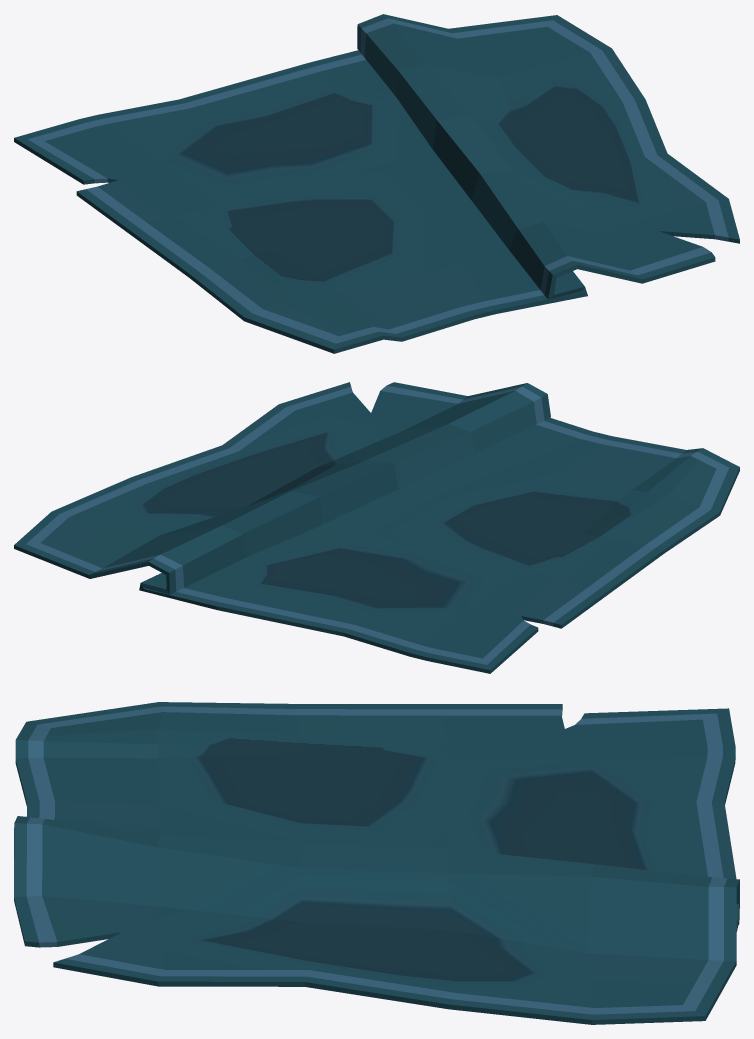
The model's file is SM_Carpet_C.fbx.
3 renders of one model, top to bottom at view 1: azimuth 30°, elevation 25°; view 2: azimuth 150°, elevation 25°; view 3: azimuth 270°, elevation 25°, orthographic. The views are drawn at different scales.
Parts seen in each view (by area): view 1: SM_Carpet_C; view 2: SM_Carpet_C; view 3: SM_Carpet_C.
Boxes of the visible parts, <box> form: SM_Carpet_C: <box>14,14,739,353</box>; SM_Carpet_C: <box>14,382,739,673</box>; SM_Carpet_C: <box>14,702,739,1024</box>.
Size of the model in its own units: 208 by 12.54 by 201.
